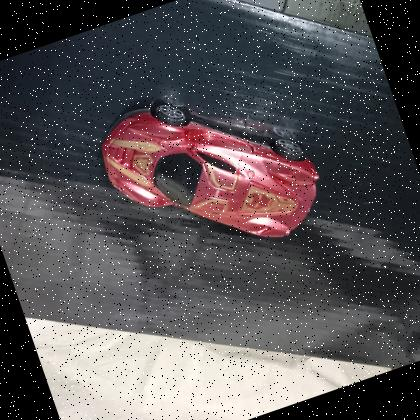Car: (82, 52, 340, 292)
